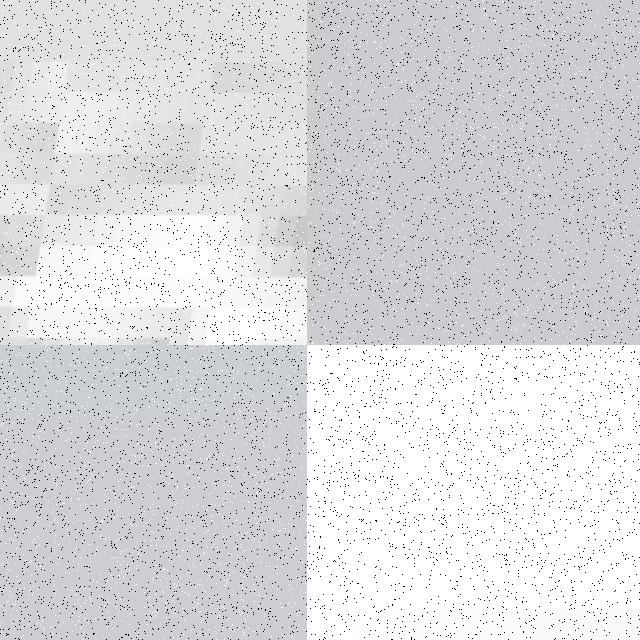0: (0, 0, 307, 345)
drone: (307, 345, 640, 640)
